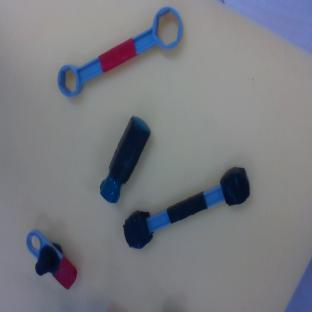part_1_good: (15, 223, 83, 298)
part_2_bad: (94, 115, 154, 205)
part_3_bad: (117, 163, 257, 252)
part_3_good: (50, 2, 191, 107)
